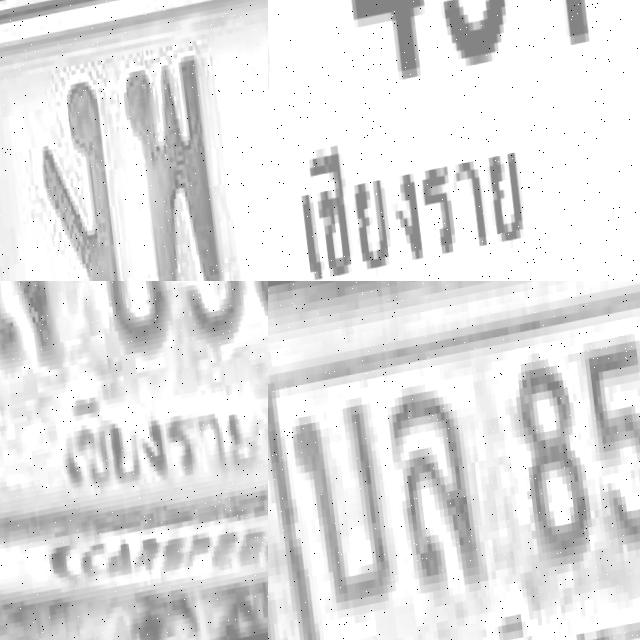license-plate: (268, 281, 640, 640), (268, 0, 640, 281), (0, 281, 268, 640), (0, 0, 268, 281)
